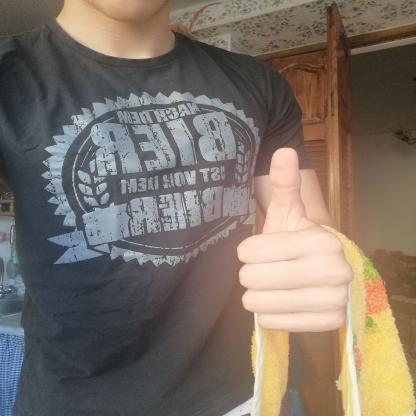ALIF: (221, 135, 365, 344)
